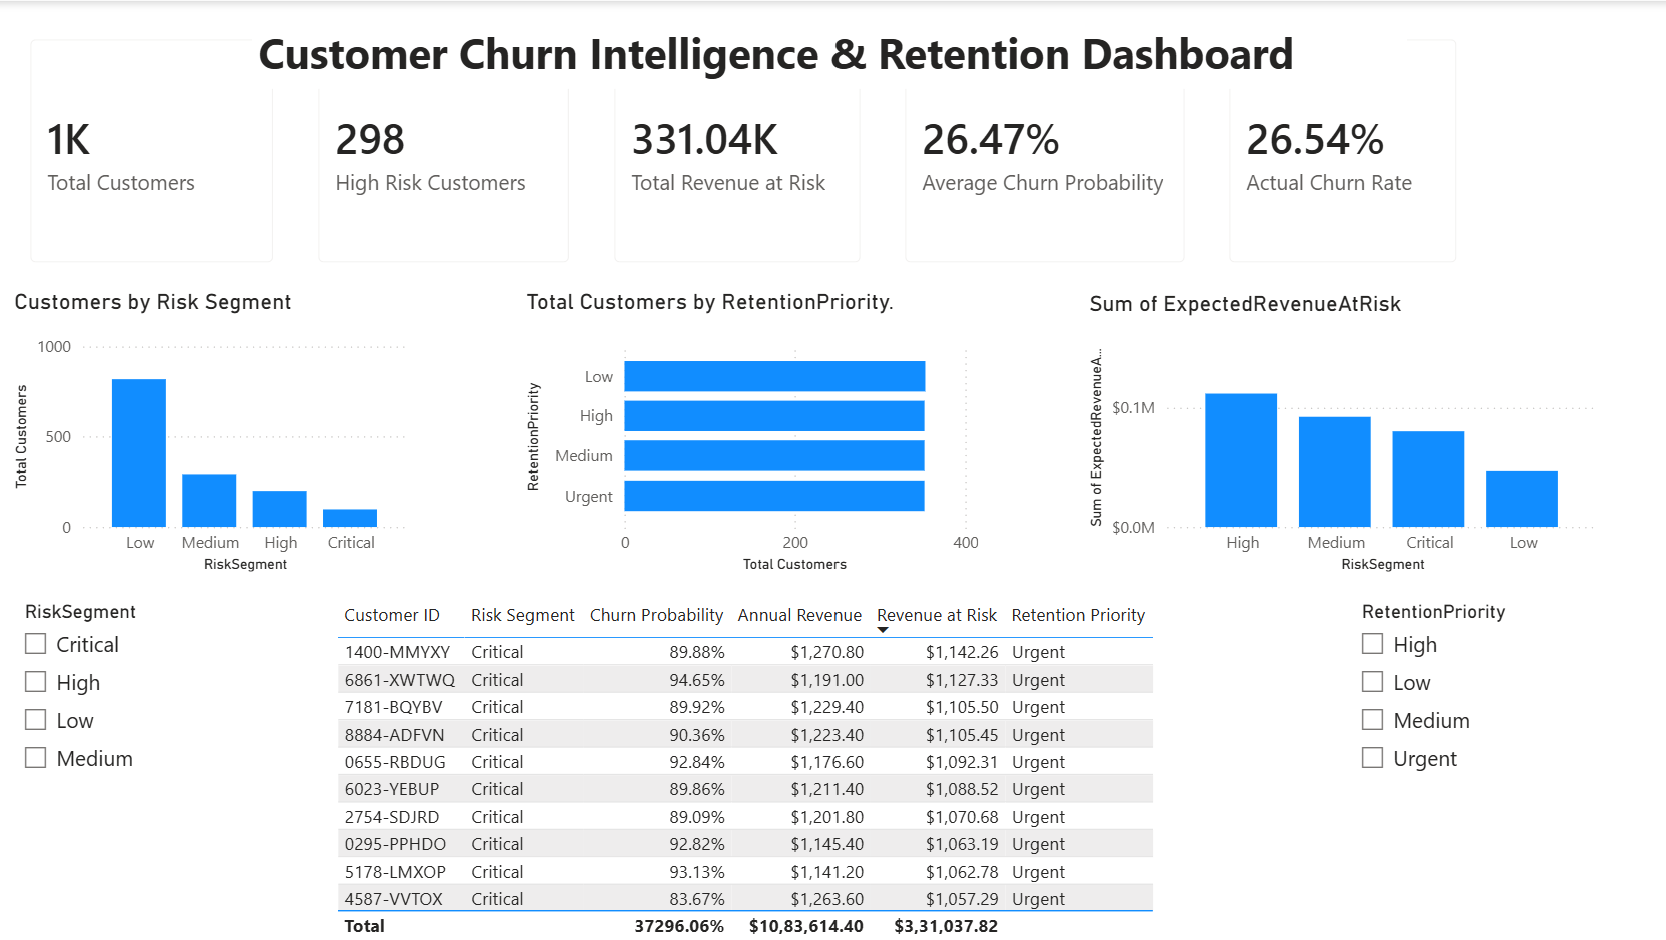

This screenshot's page, from the dashboard's own definition file:
{"tool":"powerbi","page":{"name":"Executive Churn Overview","canvas":[1280,720],"ordinal":0},"visuals":[{"type":"cardVisual","fields":{"Data":["customer_churn_intelligence.Total Customers"]},"box":[10.7,12.2,220.5,205.2],"z":0},{"type":"cardVisual","fields":{"Data":["customer_churn_intelligence.High Risk Customers"]},"box":[231.2,12.2,226.6,205.2],"z":1},{"type":"cardVisual","fields":{"Data":["customer_churn_intelligence.Total Revenue at Risk"]},"box":[457.8,12.2,222,205.2],"z":2},{"type":"cardVisual","fields":{"Data":["customer_churn_intelligence.Average Churn Probability"]},"box":[679.8,12.2,248,205.2],"z":3},{"type":"cardVisual","fields":{"Data":["customer_churn_intelligence.Actual Churn Rate"]},"box":[927.8,12.2,208.2,205.2],"z":4},{"type":"clusteredColumnChart","title":"Customers by Risk Segment","fields":{"Category":["customer_churn_intelligence.RiskSegment"],"Y":["customer_churn_intelligence.Total Customers"]},"box":[10.7,220.5,310.8,220.5],"z":5},{"type":"clusteredColumnChart","title":"Sum of ExpectedRevenueAtRisk","fields":{"Category":["customer_churn_intelligence.RiskSegment"],"Y":["Sum(customer_churn_intelligence.ExpectedRevenueAtRisk)"]},"box":[832.9,222,399.6,218.9],"z":6},{"type":"clusteredBarChart","title":"Total Customers by RetentionPriority.","fields":{"Y":["customer_churn_intelligence.Total Customers"],"Category":["customer_churn_intelligence.RetentionPriority"]},"box":[402.7,220.5,355.2,220.5],"z":7},{"type":"tableEx","fields":{"Values":["customer_churn_intelligence.customerID","customer_churn_intelligence.RiskSegment","Sum(customer_churn_intelligence.ChurnProbability)","Sum(customer_churn_intelligence.AnnualRevenue)","Sum(customer_churn_intelligence.ExpectedRevenueAtRisk)","customer_churn_intelligence.RetentionPriority"]},"box":[257.2,453.2,810,267.9],"z":8},{"type":"textbox","box":[197.5,12.2,883.4,55.1],"z":9},{"type":"slicer","fields":{"Values":["customer_churn_intelligence.RiskSegment"]},"box":[11,453,246,267],"z":10},{"type":"slicer","fields":{"Values":["customer_churn_intelligence.RetentionPriority"]},"box":[1033.5,453.2,246,267],"z":11}]}

Visuals, with their boxes in screenshot pixels (x1, y1, x2, y2), scaled from the page's 1280x720 canvas onto the 1666x940 screenshot:
cardVisual - customer_churn_intelligence.Total Customers: 14 16 301 284
cardVisual - customer_churn_intelligence.High Risk Customers: 301 16 596 284
cardVisual - customer_churn_intelligence.Total Revenue at Risk: 596 16 885 284
cardVisual - customer_churn_intelligence.Average Churn Probability: 885 16 1208 284
cardVisual - customer_churn_intelligence.Actual Churn Rate: 1208 16 1479 284
"Customers by Risk Segment" clusteredColumnChart: 14 288 418 576
"Sum of ExpectedRevenueAtRisk" clusteredColumnChart: 1084 290 1604 576
"Total Customers by RetentionPriority." clusteredBarChart: 524 288 986 576
tableEx - customer_churn_intelligence.customerID x customer_churn_intelligence.RiskSegment: 335 592 1389 939
textbox: 257 16 1407 88
slicer - customer_churn_intelligence.RiskSegment: 14 591 335 939
slicer - customer_churn_intelligence.RetentionPriority: 1345 592 1665 939
